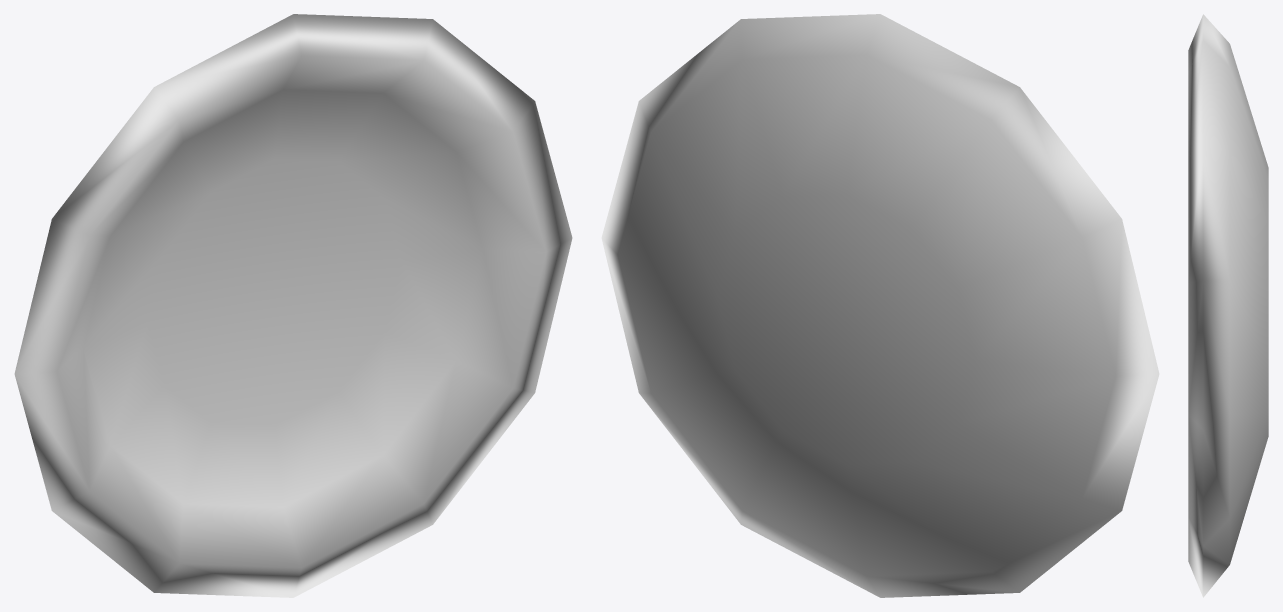
File: Plate.obj
3 renders of one model, left to right at view 1: azimuth 30°, elevation 25°; view 2: azimuth 150°, elevation 25°; view 3: azimuth 270°, elevation 25°, orthographic. The views are drawn at different scales.
Parts seen in each view (by area): view 1: Plate.003; view 2: Plate.003; view 3: Plate.003.
Part boxes in pixels (x1=…): Plate.003: x1=14, y1=14, x2=572, y2=597; Plate.003: x1=601, y1=14, x2=1159, y2=597; Plate.003: x1=1188, y1=14, x2=1268, y2=597.
Bounding box in the file's own units: 0.3491 × 0.3491 × 0.0477.
